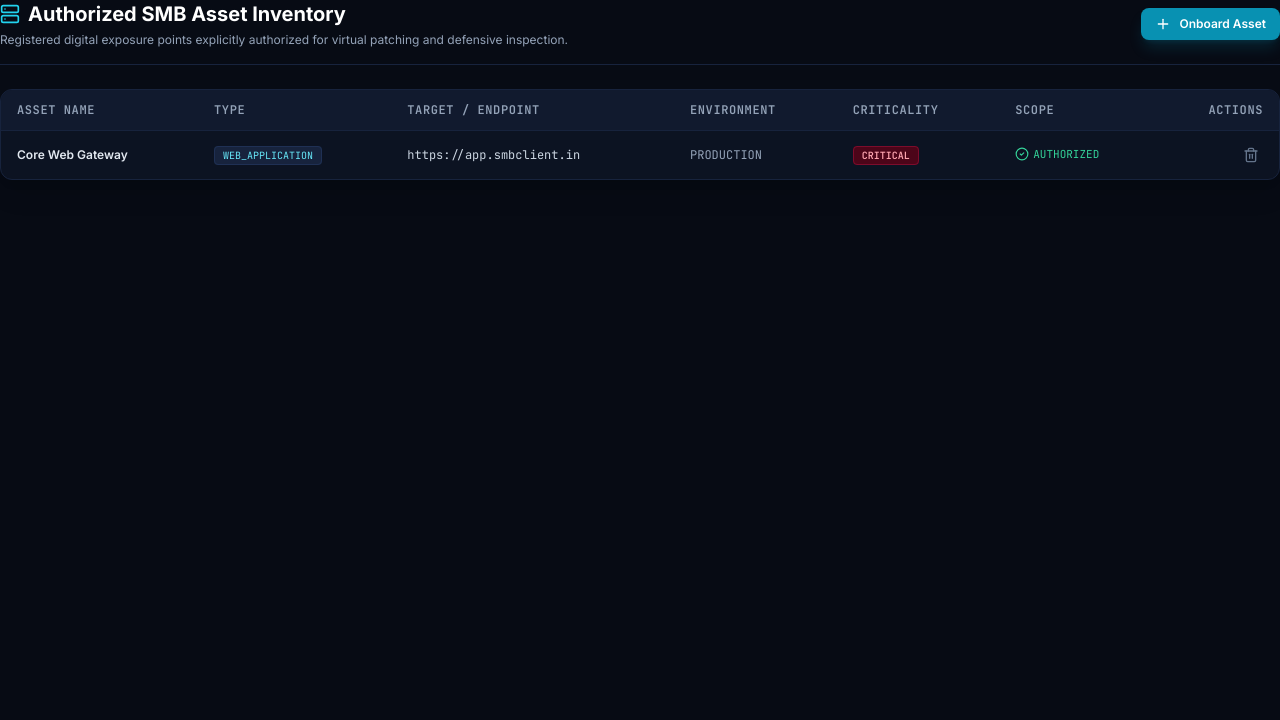
Test case: PREVENT-X Phase 1 Frontend Pages Verification › 2. AssetsPage: renders asset list, opens register asset modal, and submits asset
Check: the text "Core Web Gateway" is shown, box [1, 130, 198, 179]
Check: the text "https://app.smbclient.in" is shown, box [391, 130, 674, 179]
Click the button "Onboard Asset" at (1211, 24), box [1142, 8, 1279, 40]
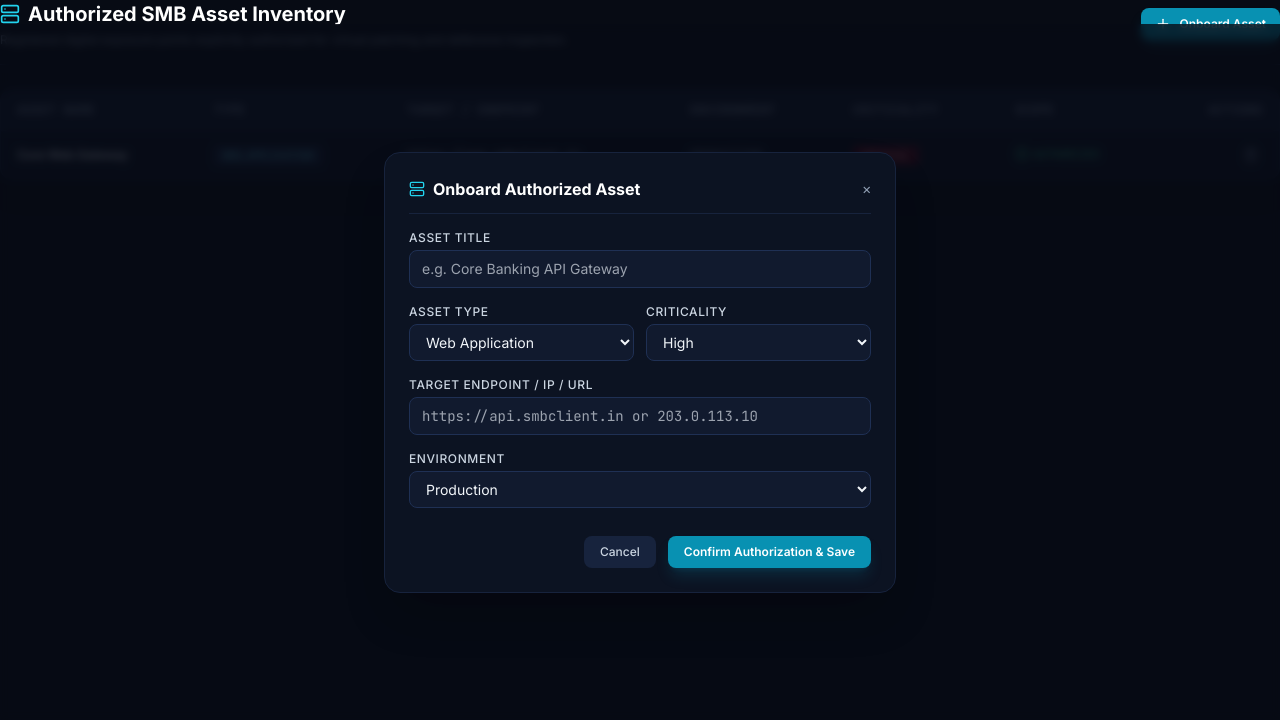
Check: the text "Onboard Authorized Asset" is shown, box [433, 176, 640, 200]
